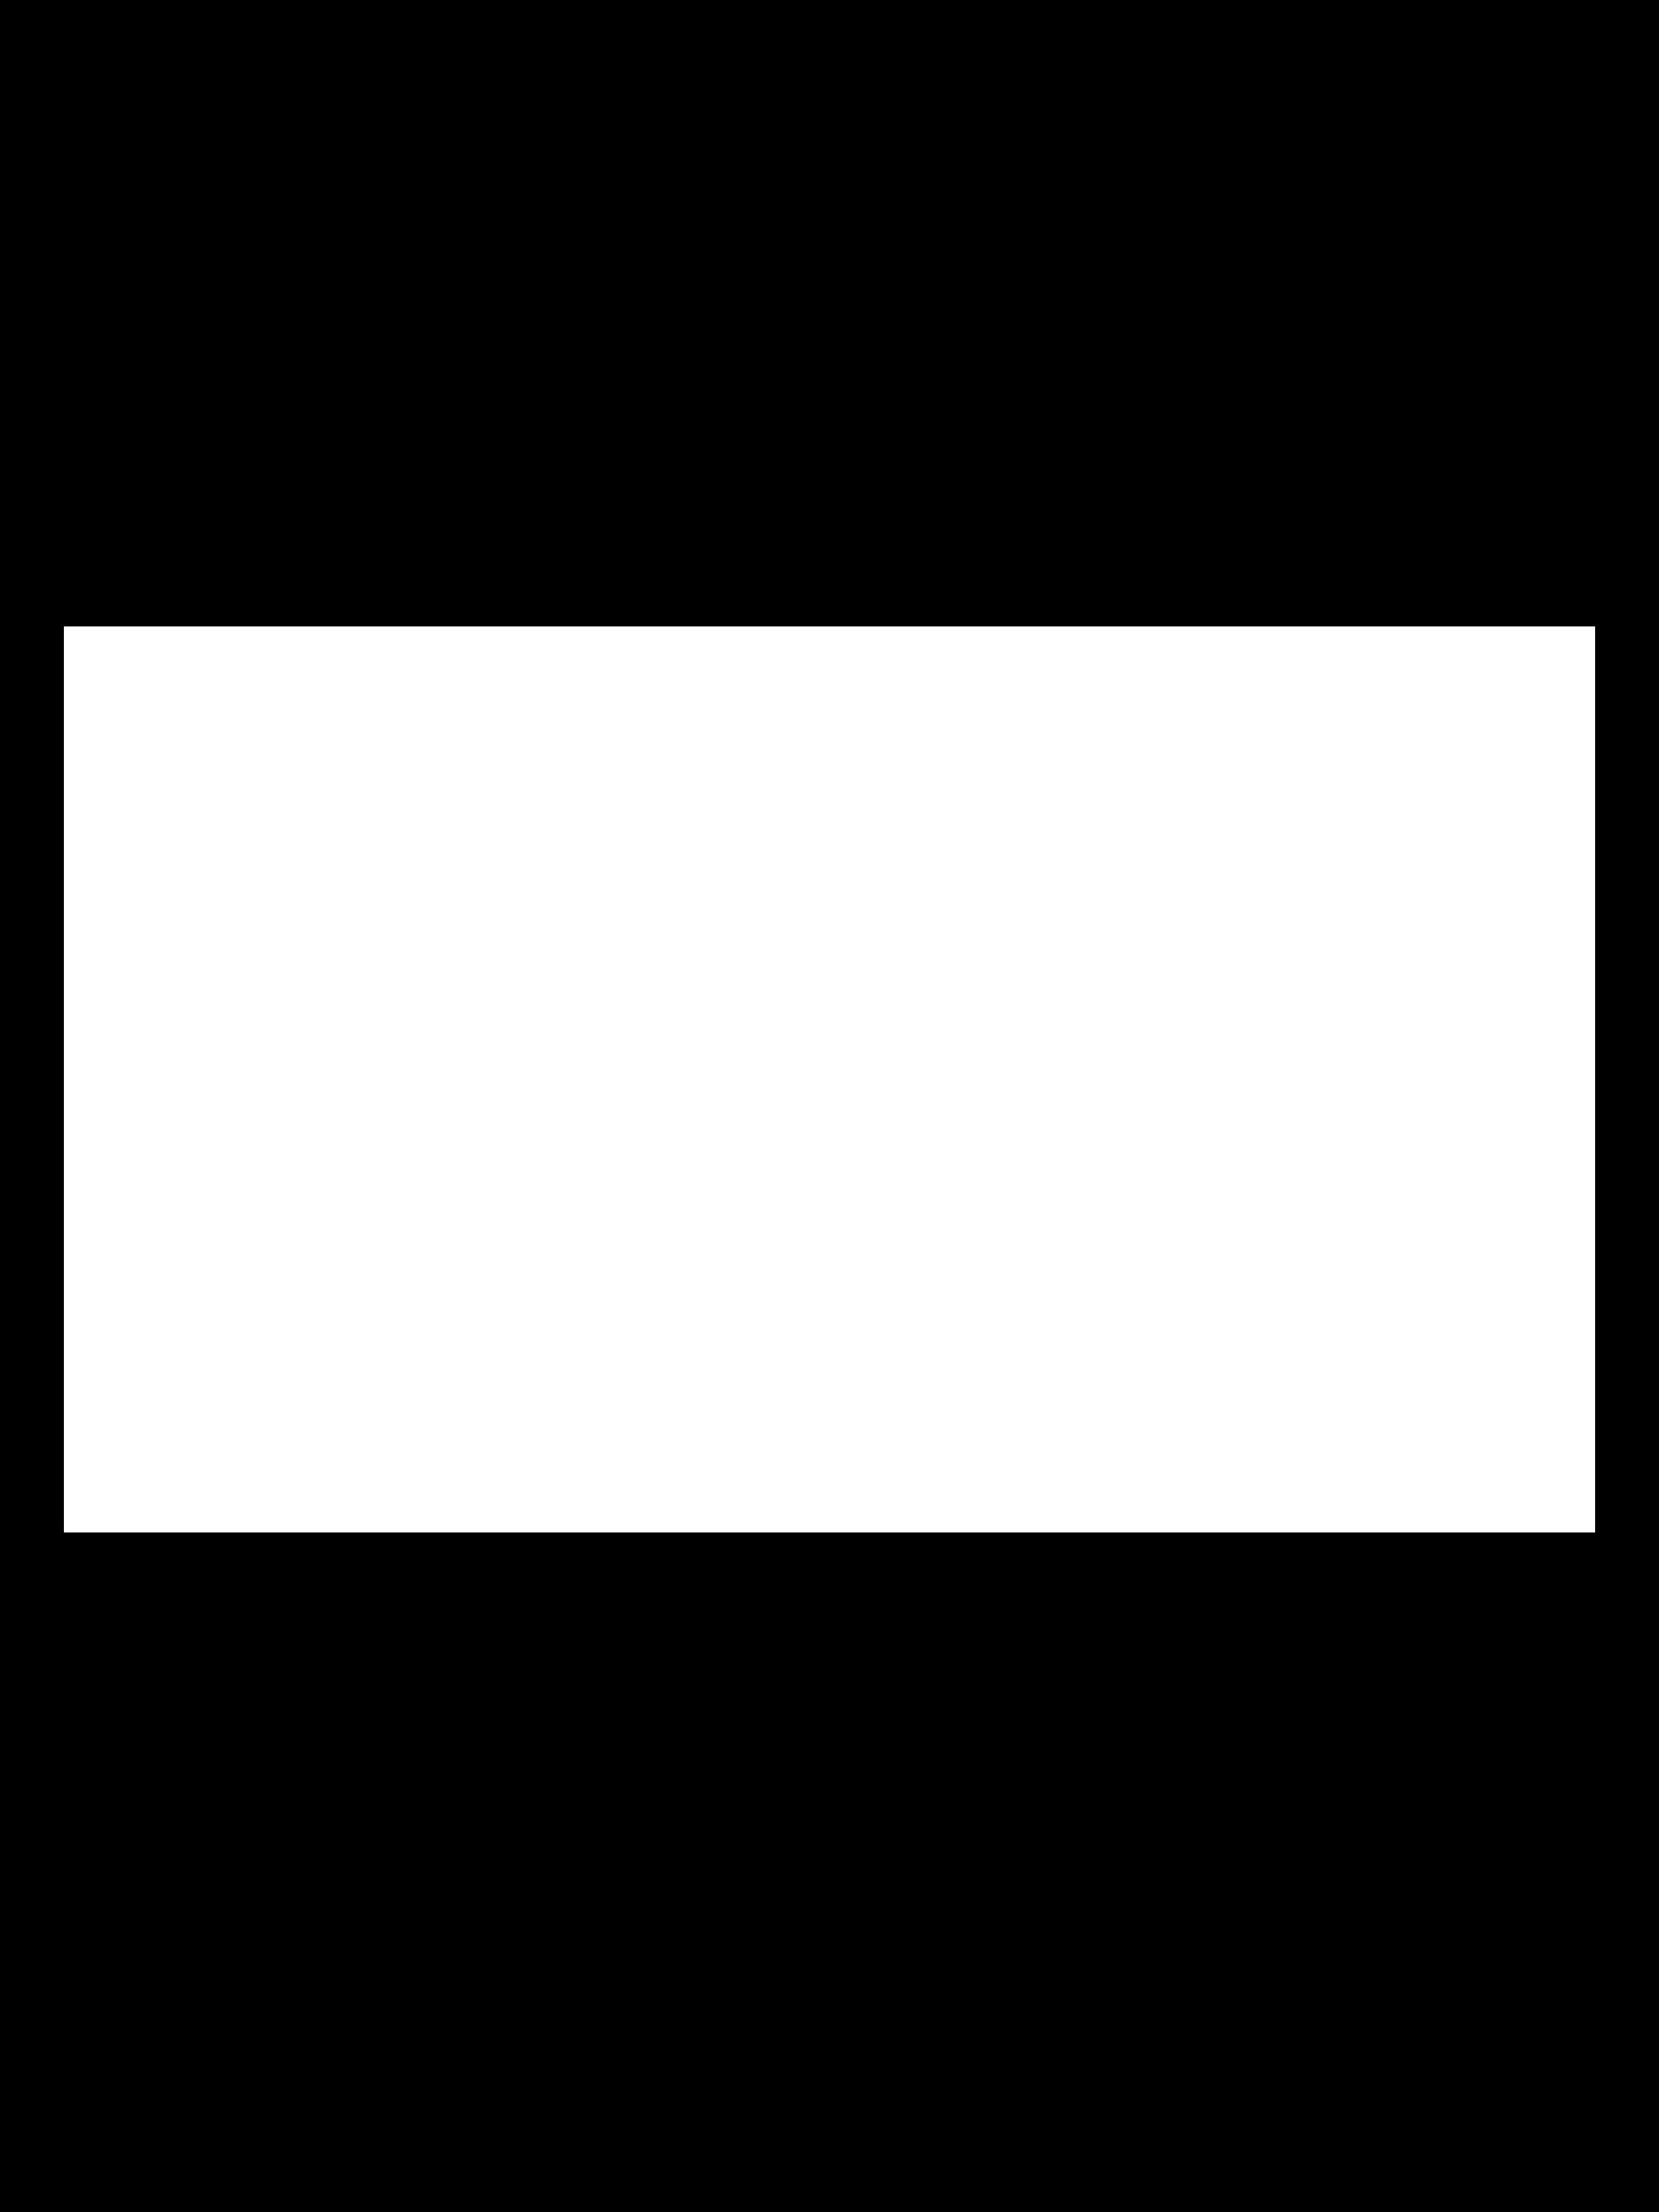table: (64, 626, 1595, 1532)
